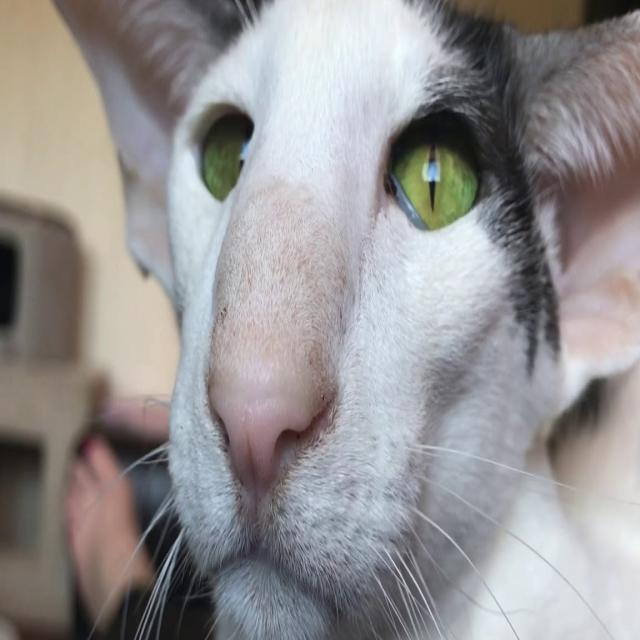Oriental: (34, 0, 640, 640)
